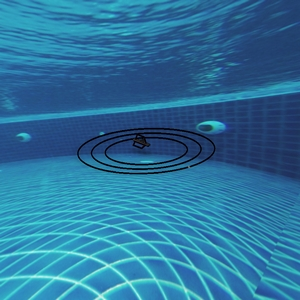circle: (65, 109, 223, 187)
submarine: (132, 134, 151, 148)
